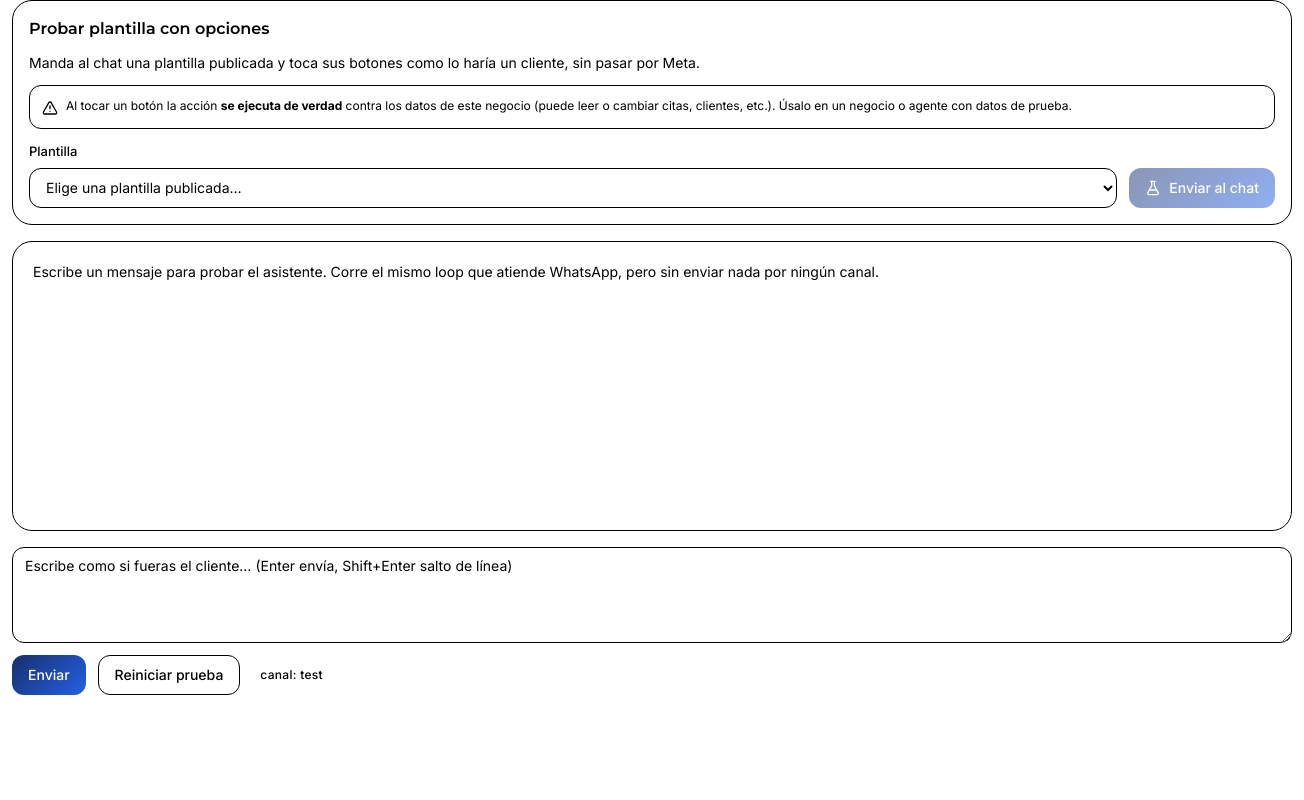
Test: Probar plantilla con opciones › con la bandera apagada, al listar o enviar también se explica
Select "Ver mis citas" in the dropdown labelled "Plantilla": (573, 188) [29,168,1117,208]
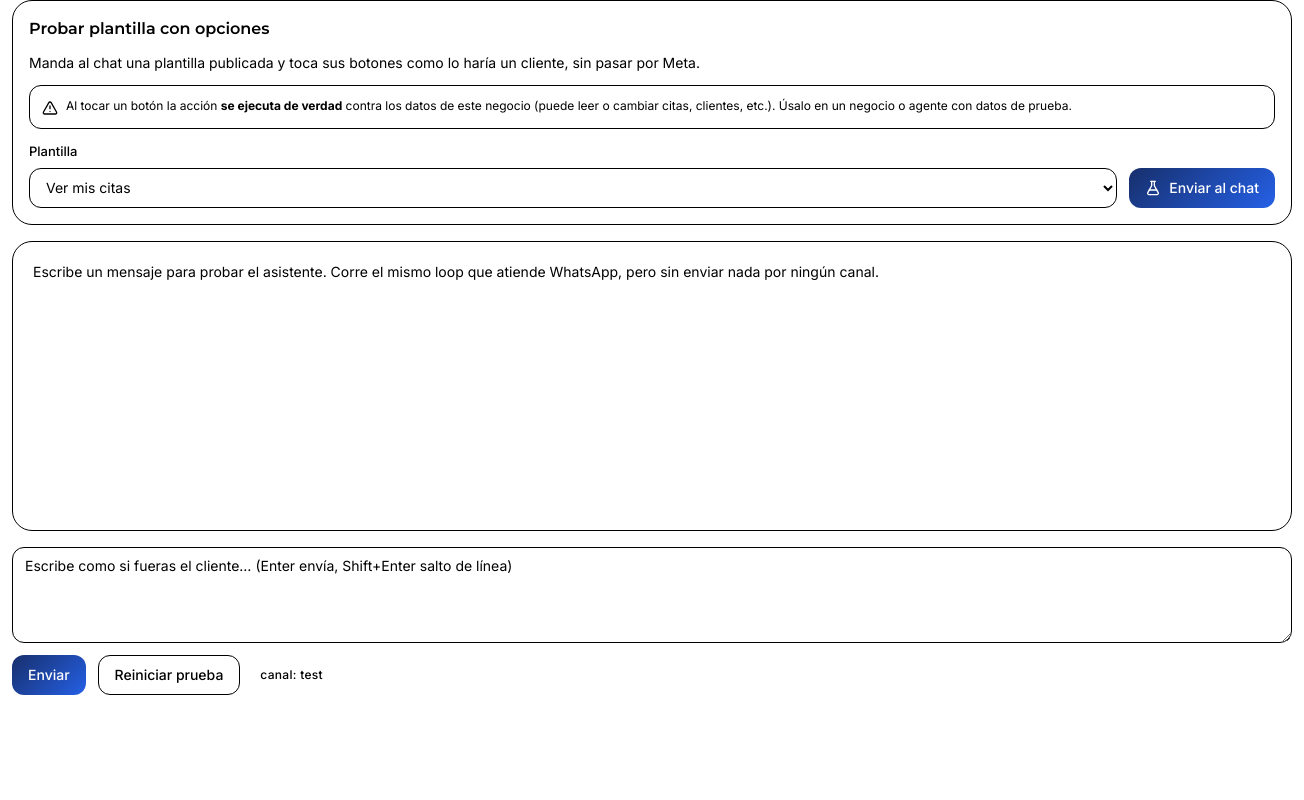
Click the button "Enviar al chat": (1202, 188) [1129,168,1275,208]
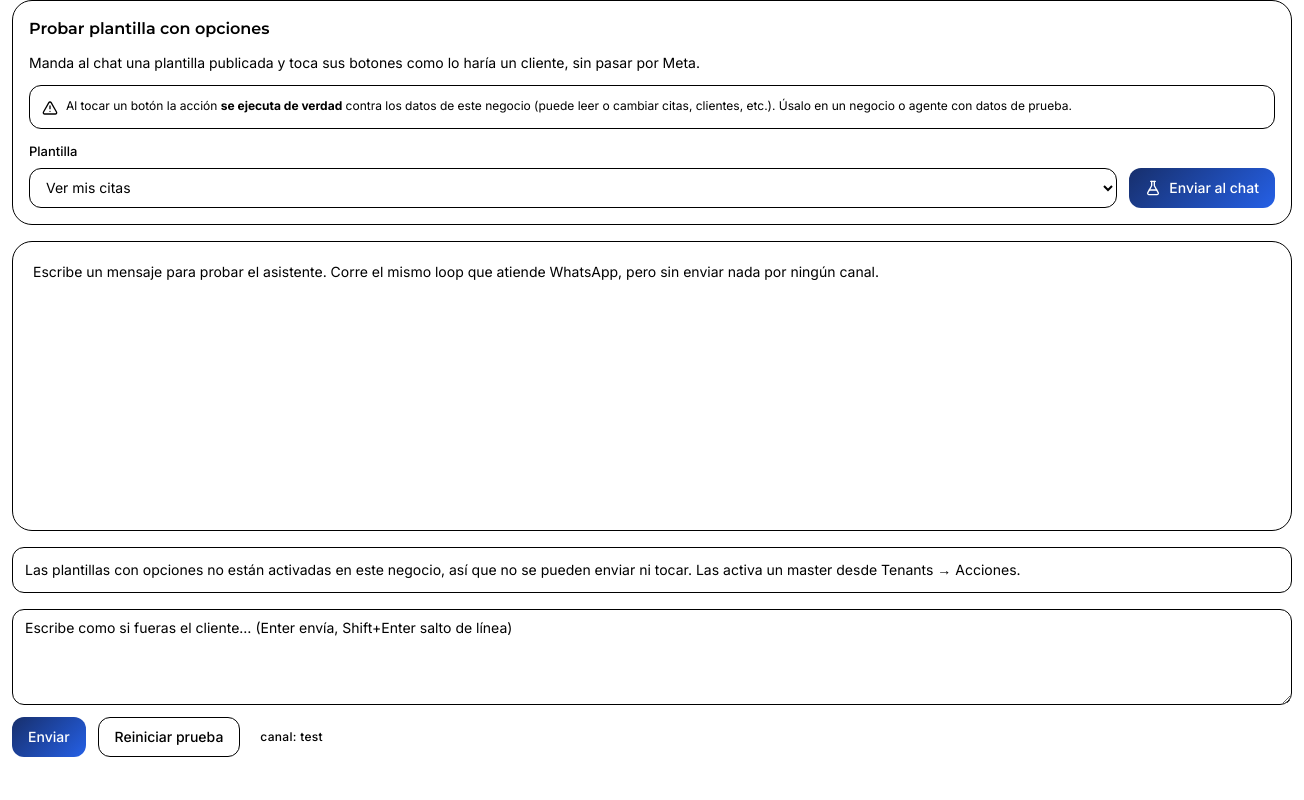
Result: the message shows "no están activadas" at [25,561,1021,578]
